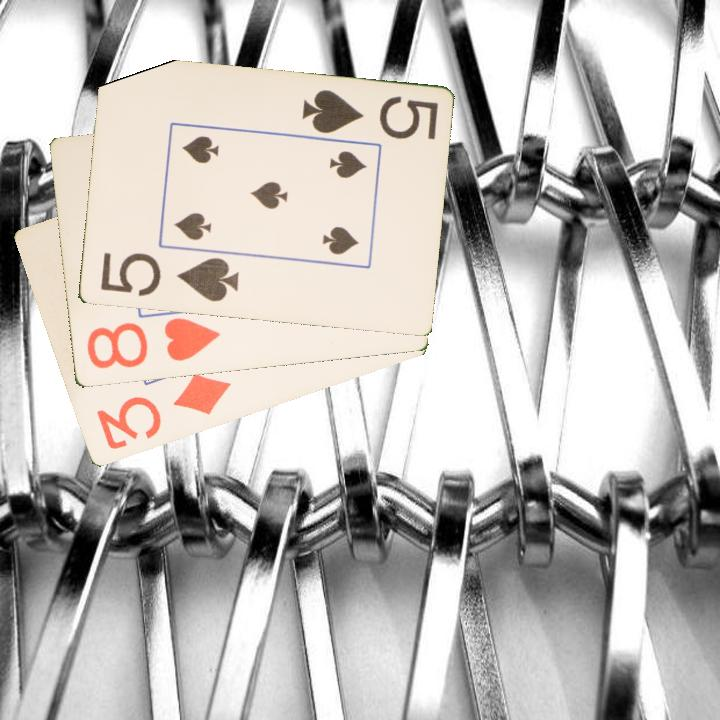3d: (92, 370, 234, 453)
5s: (297, 86, 440, 143), (97, 249, 241, 305)
8h: (82, 315, 223, 373)
